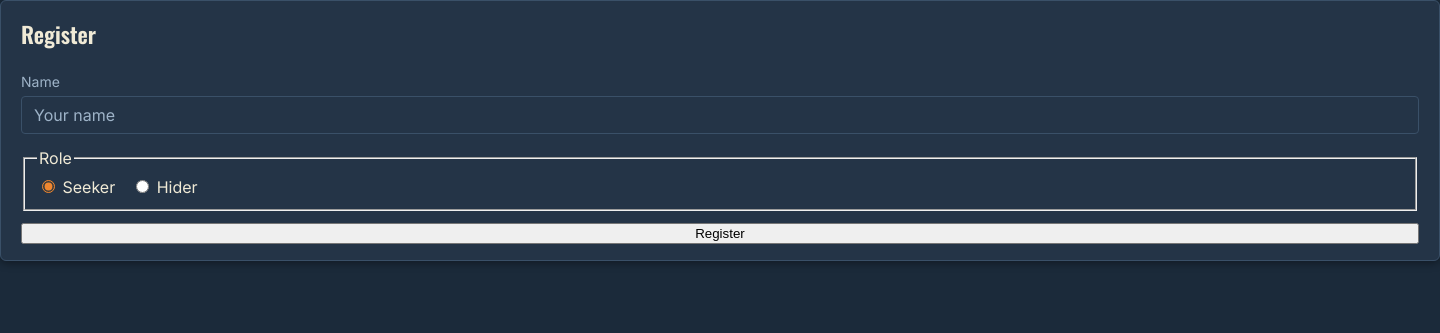
PlayerForm › shows error when registerPlayer rejects
Step 1. Type "Alice" into the field labelled "Name" → (720, 115), box x1=21 y1=96 x2=1419 y2=134
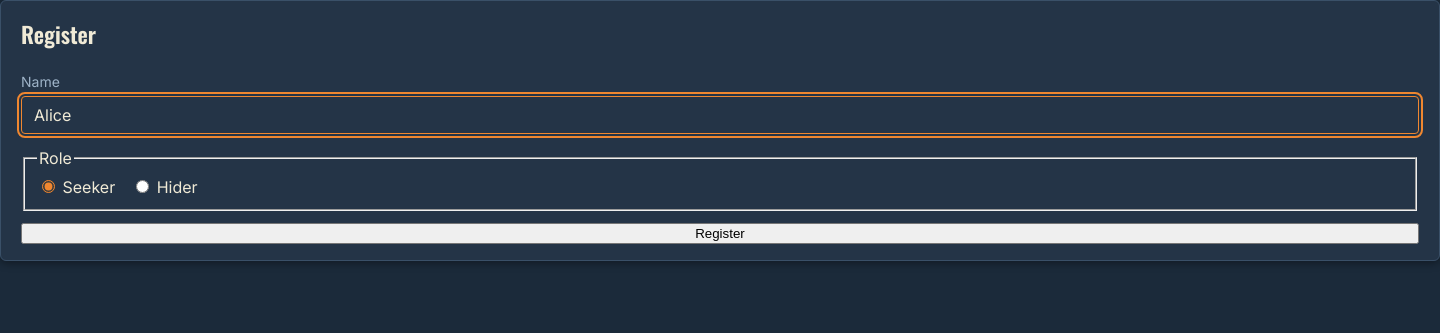
Step 2. Click the button "Register" → (720, 234), box x1=21 y1=223 x2=1419 y2=244
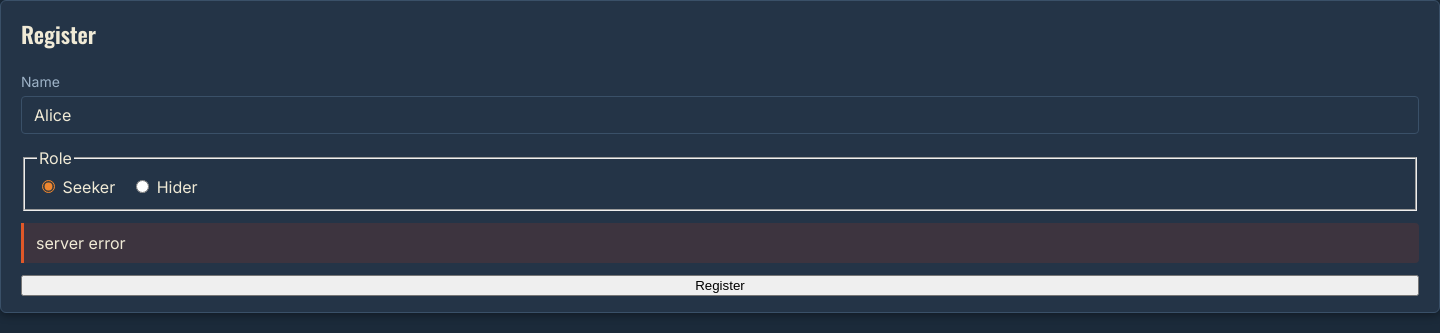
Check: the message reads "server error", box x1=36 y1=233 x2=126 y2=253
